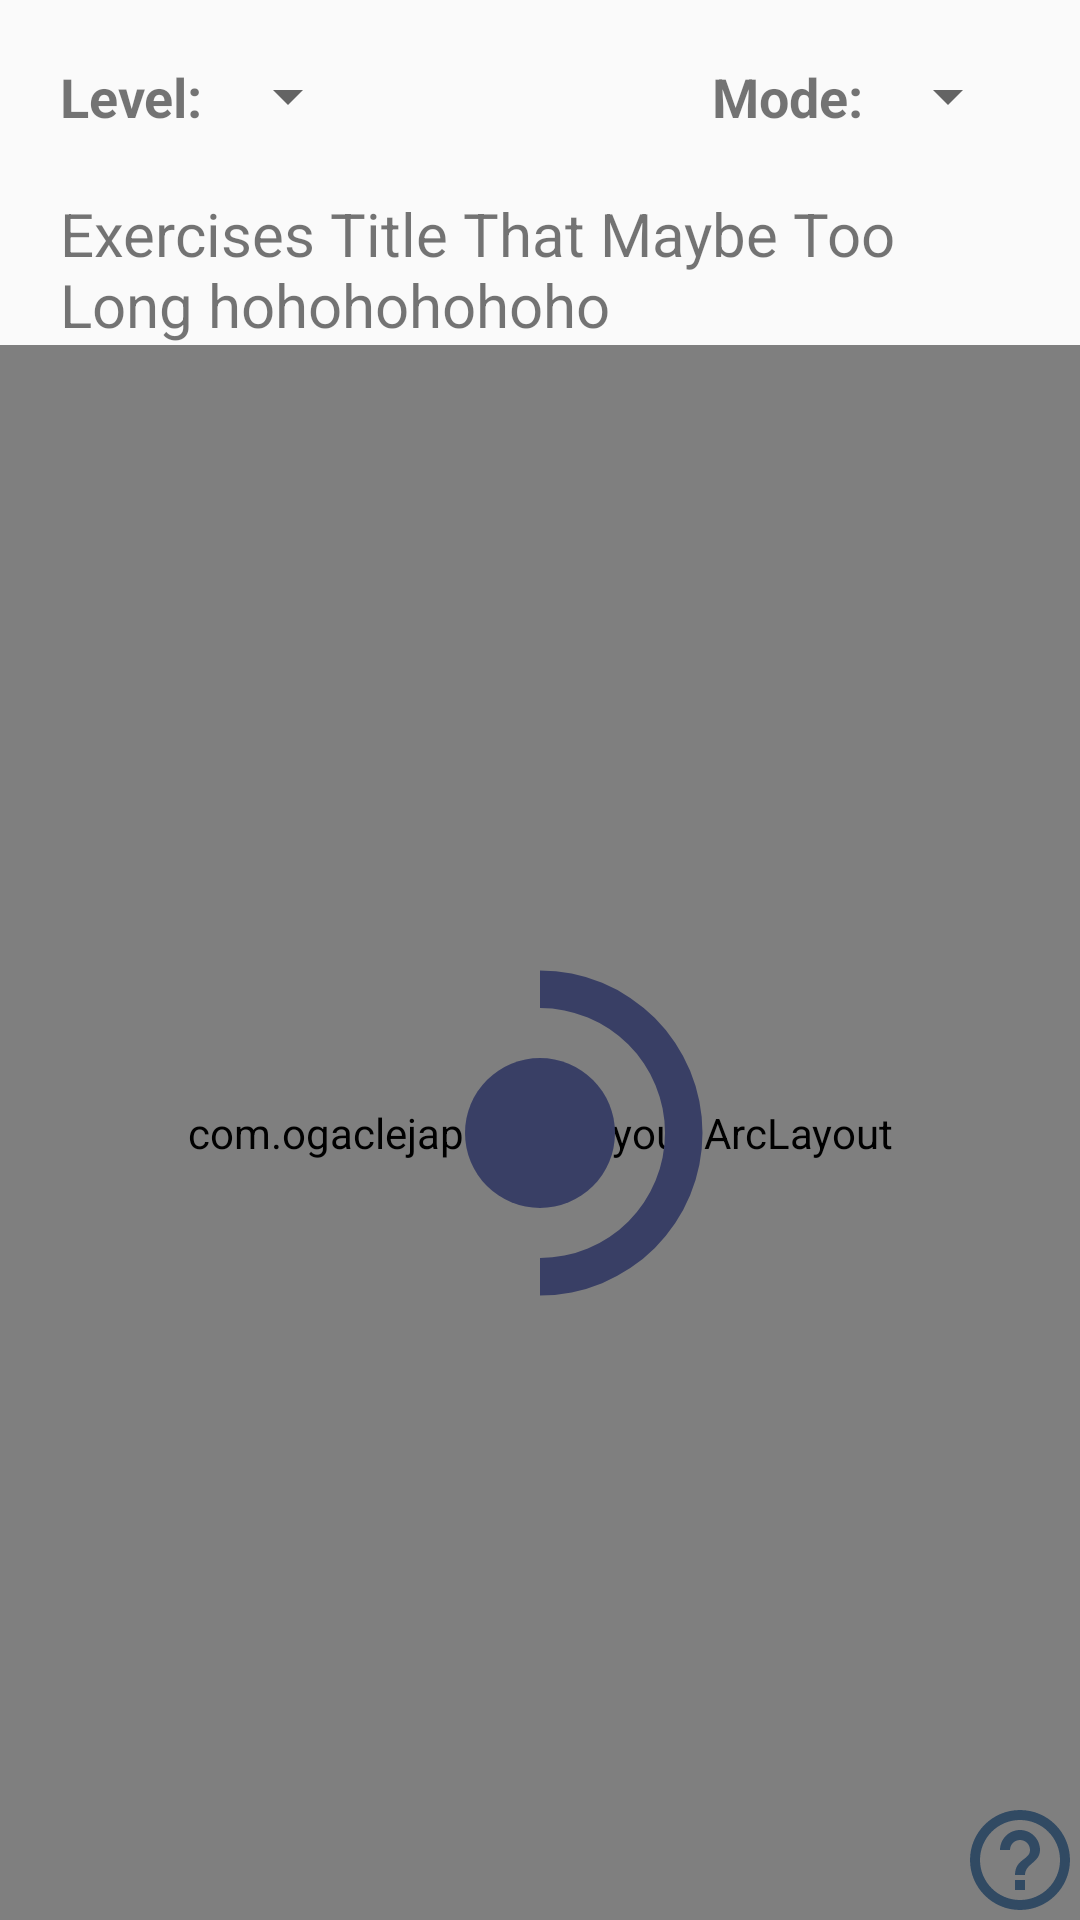

Where to tap for icons on this 1080×1920 app screen, as (x,y):
help: (1020,1860)
